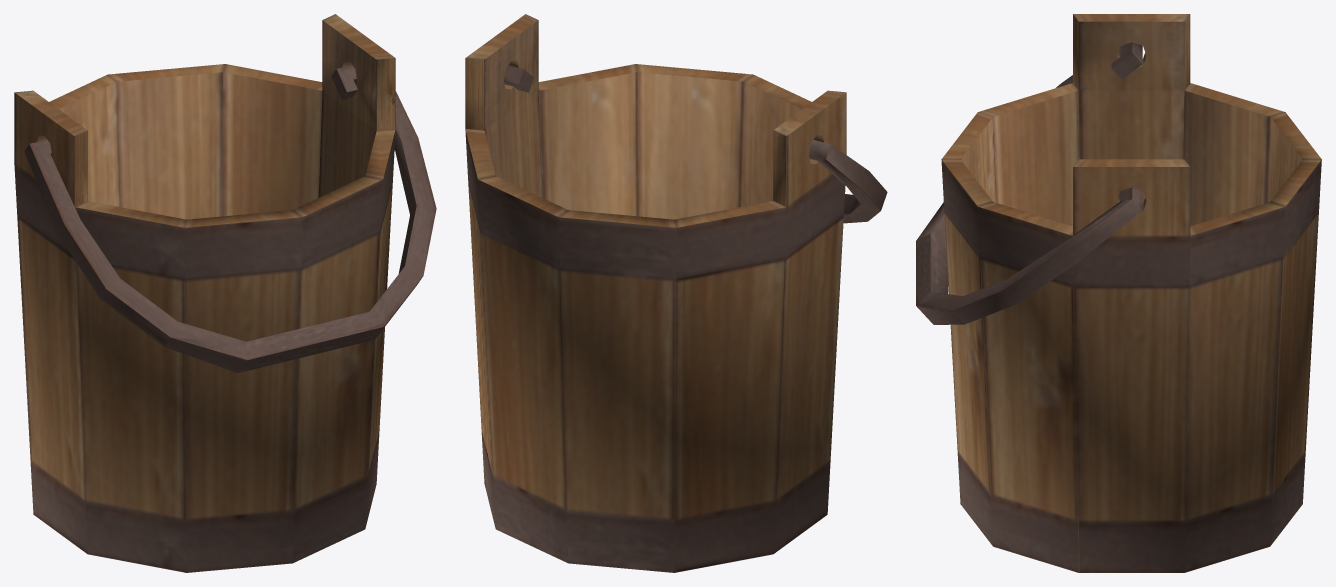
The model's file is bucket.fbx.
The picture shows the model from 3 angles, left to right: view 1: azimuth 30°, elevation 25°; view 2: azimuth 150°, elevation 25°; view 3: azimuth 270°, elevation 25°; orthographic projection. The views are drawn at different scales.
Parts seen in each view (by area): view 1: skin; view 2: skin; view 3: skin.
Part boxes in pixels (x1,y1,x2,y2): skin: (14, 14, 436, 572); skin: (465, 14, 887, 572); skin: (916, 14, 1321, 572).
Bounding box in the file's own units: 210 × 240 × 213.
1 material, 1 textured.
